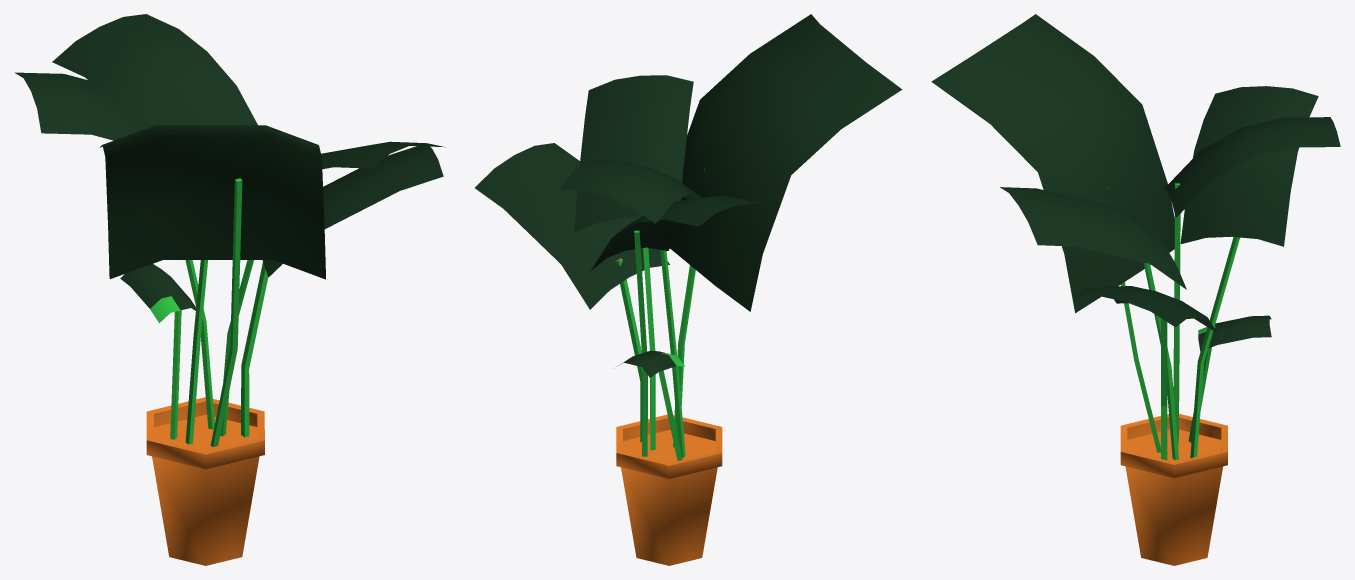
The model's file is planta_gran.FBX.
3 views of the same model, side by side, from view 1: azimuth 30°, elevation 25°; view 2: azimuth 150°, elevation 25°; view 3: azimuth 270°, elevation 25° (orthographic). The views are drawn at different scales.
Visible parts, largest first — view 1: Cylinder001; view 2: Cylinder001; view 3: Cylinder001.
Part boxes in pixels (x1,y1,x2,y2): Cylinder001: (15, 14, 445, 565); Cylinder001: (475, 14, 902, 565); Cylinder001: (931, 14, 1340, 565).
Size of the model in its own units: 18.16 by 22.42 by 17.78.
